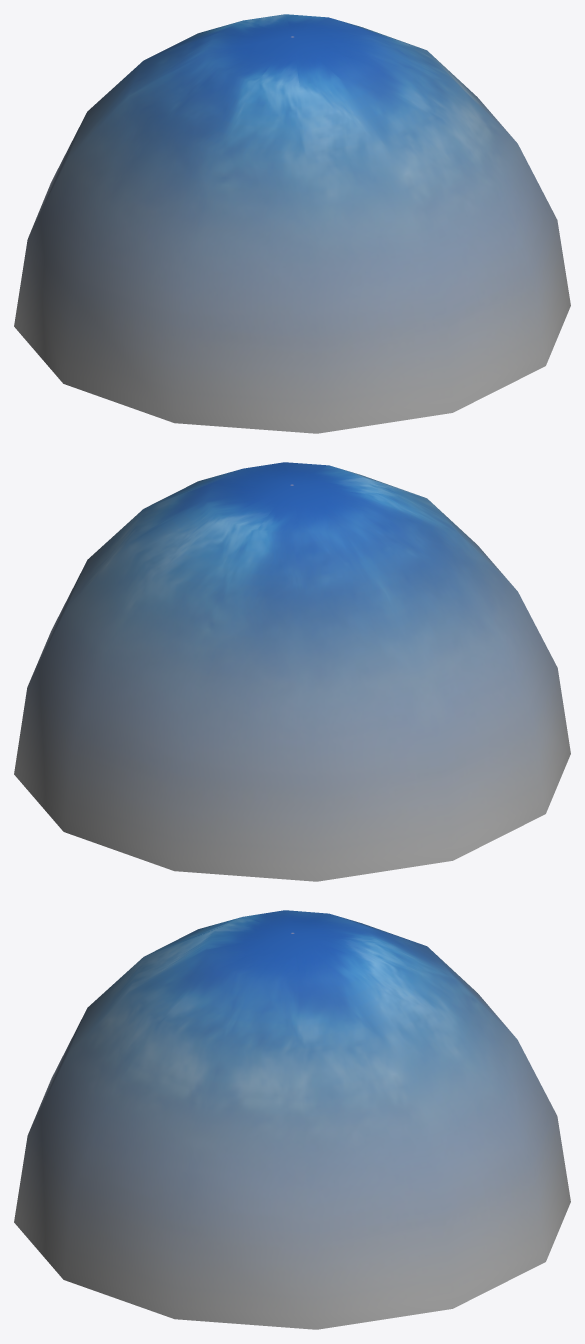
The model's file is env_jak_debrisfield_pre.glb.
The picture shows the model from 3 angles, top to bottom: view 1: azimuth 30°, elevation 25°; view 2: azimuth 150°, elevation 25°; view 3: azimuth 270°, elevation 25°; orthographic projection.
Parts seen in each view (by area): view 1: skybox_01_mesh; view 2: skybox_01_mesh; view 3: skybox_01_mesh.
Part boxes in pixels (box(x1,y1,x2,y2)): skybox_01_mesh: box(14, 14, 570, 433); skybox_01_mesh: box(14, 462, 570, 881); skybox_01_mesh: box(14, 910, 570, 1329).
Bounding box in the file's own units: 289 × 161 × 289.
8 materials, 8 textured.
